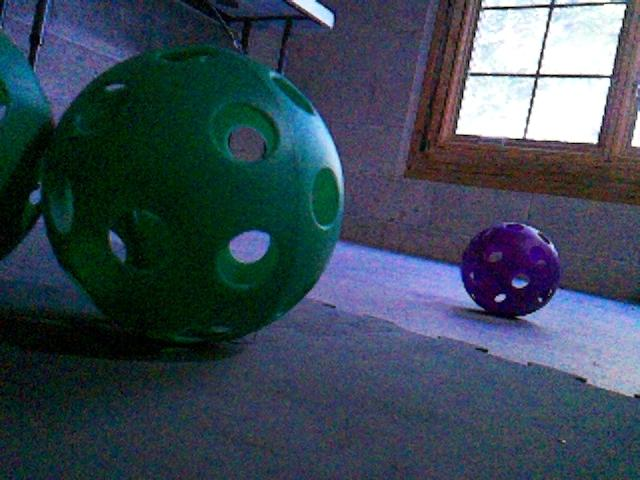Green: (37, 47, 342, 344), (0, 21, 56, 268)
Purple: (459, 221, 561, 317)
